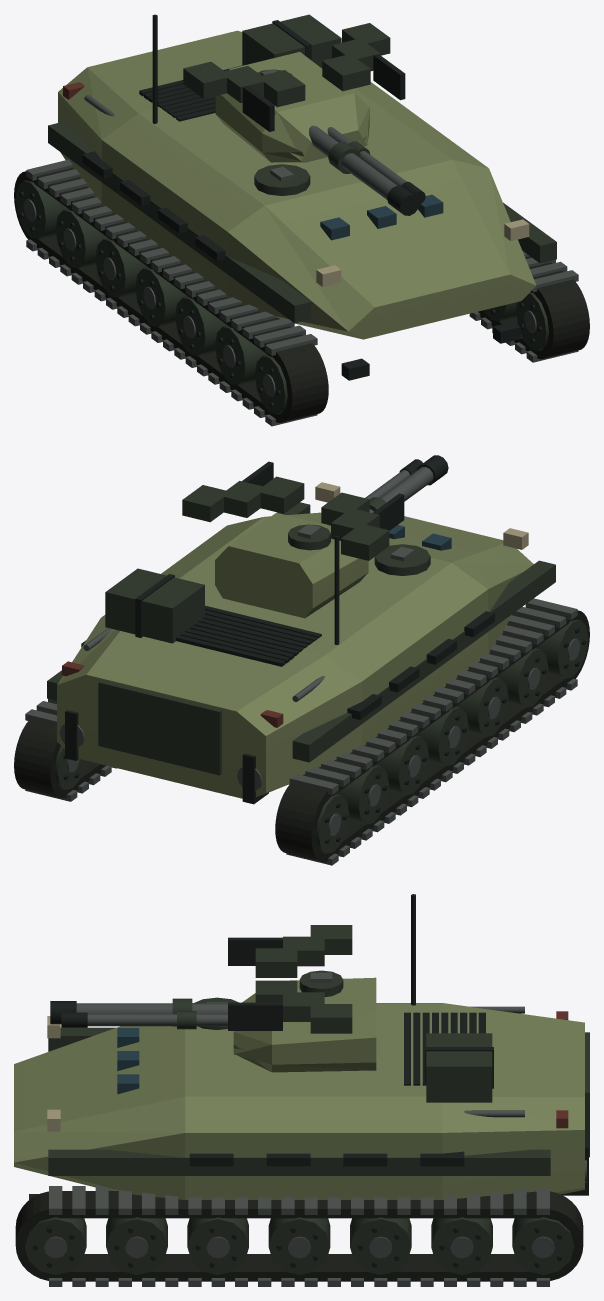
Rendered from ifv.glb.
3 renders of one model, top to bottom at view 1: azimuth 30°, elevation 25°; view 2: azimuth 150°, elevation 25°; view 3: azimuth 270°, elevation 25°, orthographic.
Visible parts, largest first — view 1: armor (×2), equipment (×4), glass; view 2: equipment (×4), armor (×2), glass; view 3: equipment (×4), armor (×2), glass.
Boxes of the visible parts, x1,y1,x2,y2 form: armor (×2): (58,30,536,339); equipment (×4): (14,14,589,426); glass: (320,194,443,240); equipment (×4): (14,455,589,865); armor (×2): (57,512,533,798); glass: (389,525,451,550); equipment (×4): (15,894,589,1286); armor (×2): (14,977,584,1199); glass: (117,1028,139,1094).
Bounding box in the file's own units: 3.31 × 2.71 × 5.24.
